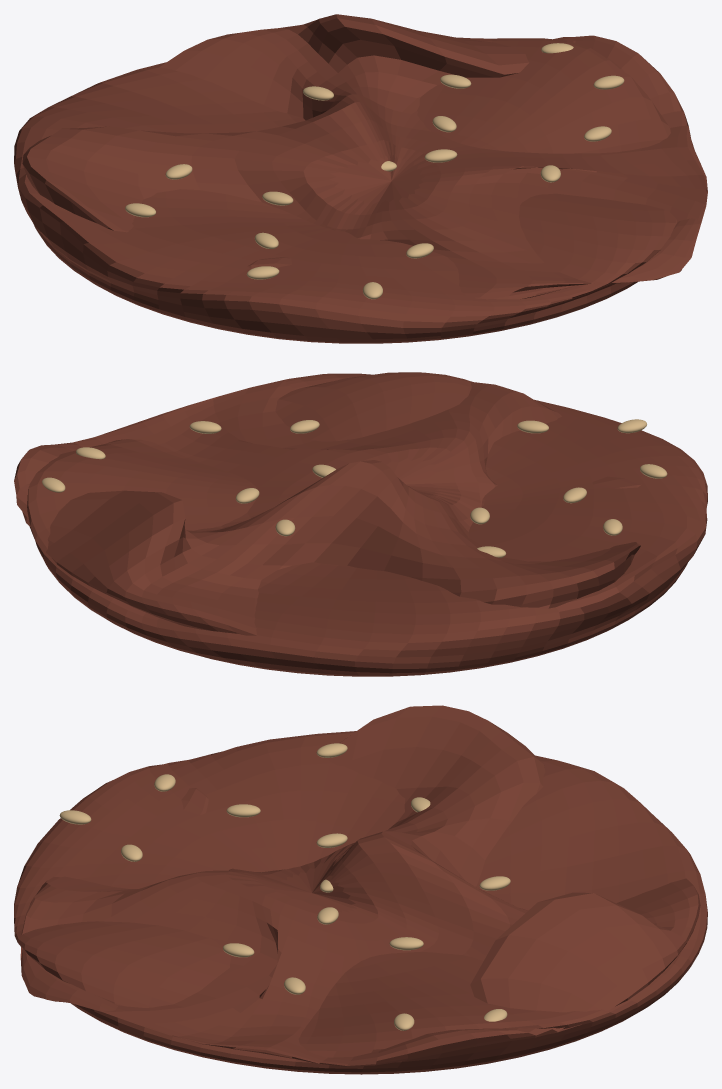
File: sauce.fbx
3 renders of one model, top to bottom at view 1: azimuth 30°, elevation 25°; view 2: azimuth 150°, elevation 25°; view 3: azimuth 270°, elevation 25°, orthographic. The views are drawn at different scales.
Parts seen in each view (by area): view 1: Sphere.029, Sphere.031; view 2: Sphere.029, Sphere.031; view 3: Sphere.029, Sphere.031.
Boxes of the visible parts, <box> form: Sphere.029: <box>14,14,707,343</box>; Sphere.031: <box>125,43,624,299</box>; Sphere.029: <box>14,372,707,676</box>; Sphere.031: <box>42,419,667,557</box>; Sphere.029: <box>14,705,707,1074</box>; Sphere.031: <box>59,743,510,1030</box>.
Size of the model in its own units: 327 by 61.92 by 311.
